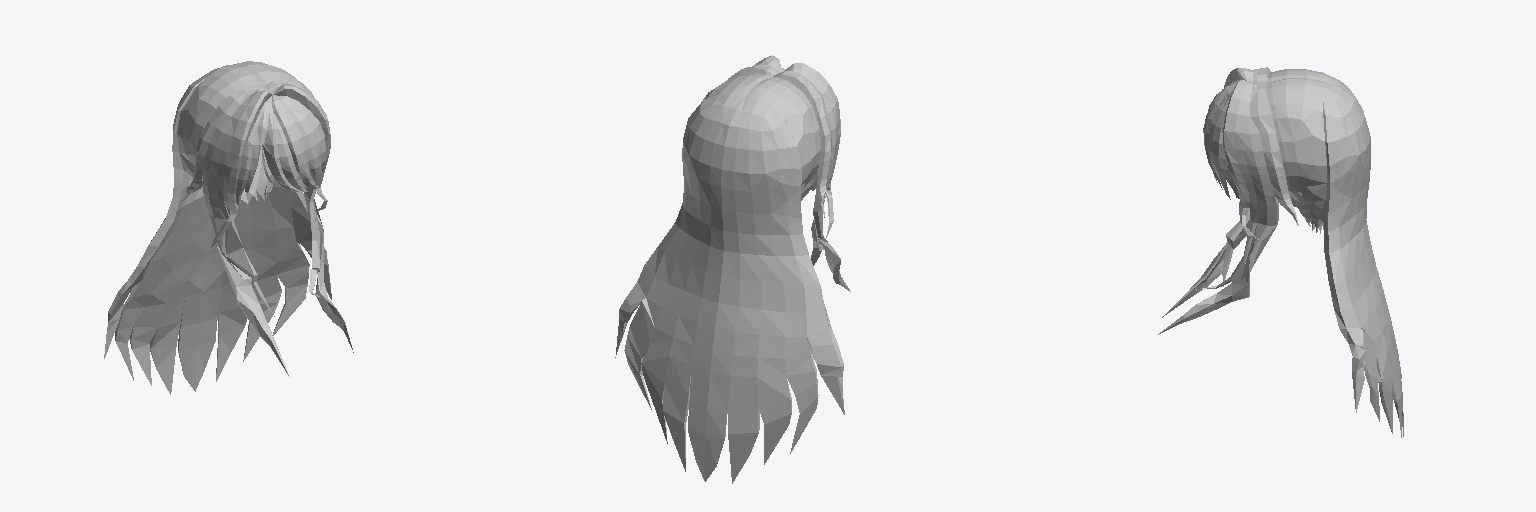
File: longhair.obj
The picture shows the model from 3 angles: view 1: azimuth 30°, elevation 25°; view 2: azimuth 150°, elevation 25°; view 3: azimuth 270°, elevation 25°; orthographic projection.
Bounding box in the file's own units: 41.28 × 62.54 × 38.57.